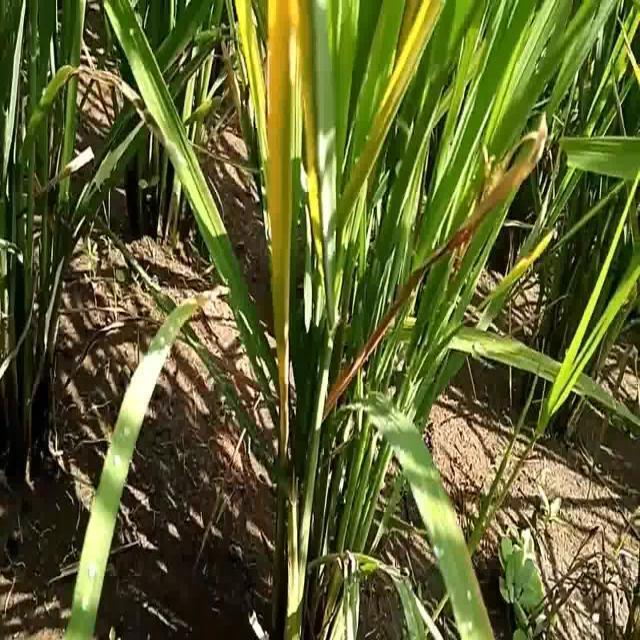Rice Tungro: (260, 3, 302, 478), (350, 3, 448, 193)
